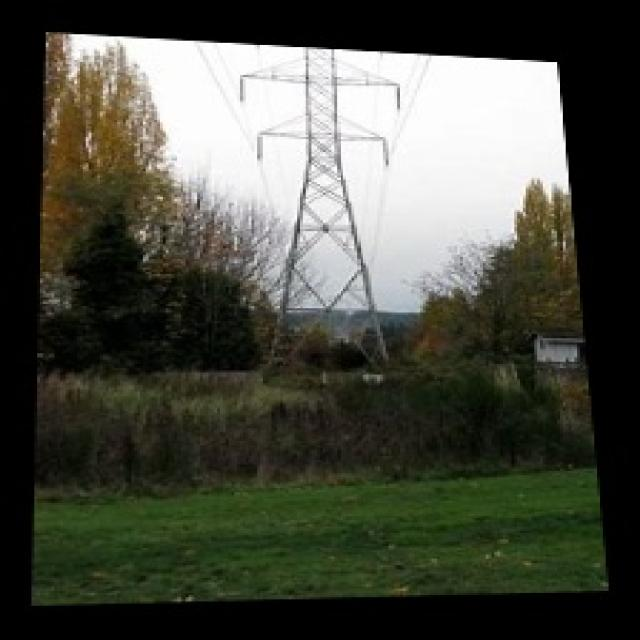utility poles: (186, 190, 308, 372), (325, 258, 472, 386)
